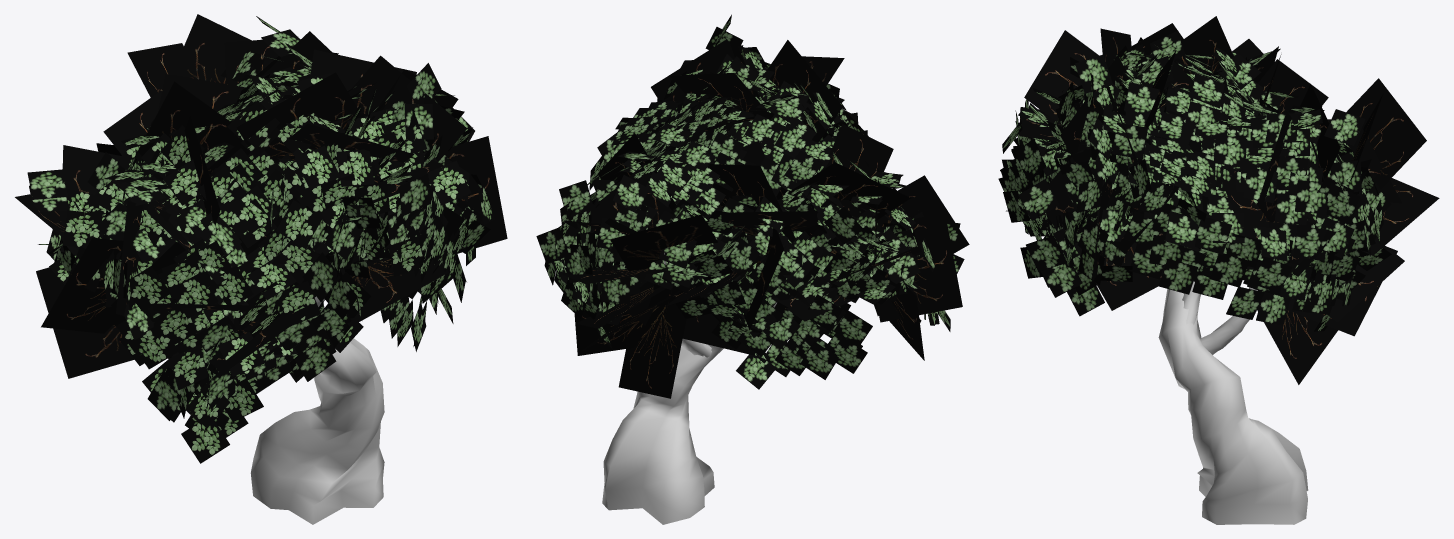
Rendered from Tree_Model_TEST_2.FBX.
The picture shows the model from 3 angles, left to right: view 1: azimuth 30°, elevation 25°; view 2: azimuth 150°, elevation 25°; view 3: azimuth 270°, elevation 25°; orthographic projection. The views are drawn at different scales.
Parts seen in each view (by area): view 1: Cylinder014; view 2: Cylinder014; view 3: Cylinder014.
Part boxes in pixels (box(x1,y1,x2,y2)): Cylinder014: box(15, 14, 507, 524); Cylinder014: box(536, 14, 969, 524); Cylinder014: box(998, 16, 1439, 524).
Size of the model in its own units: 436 by 434 by 489.
